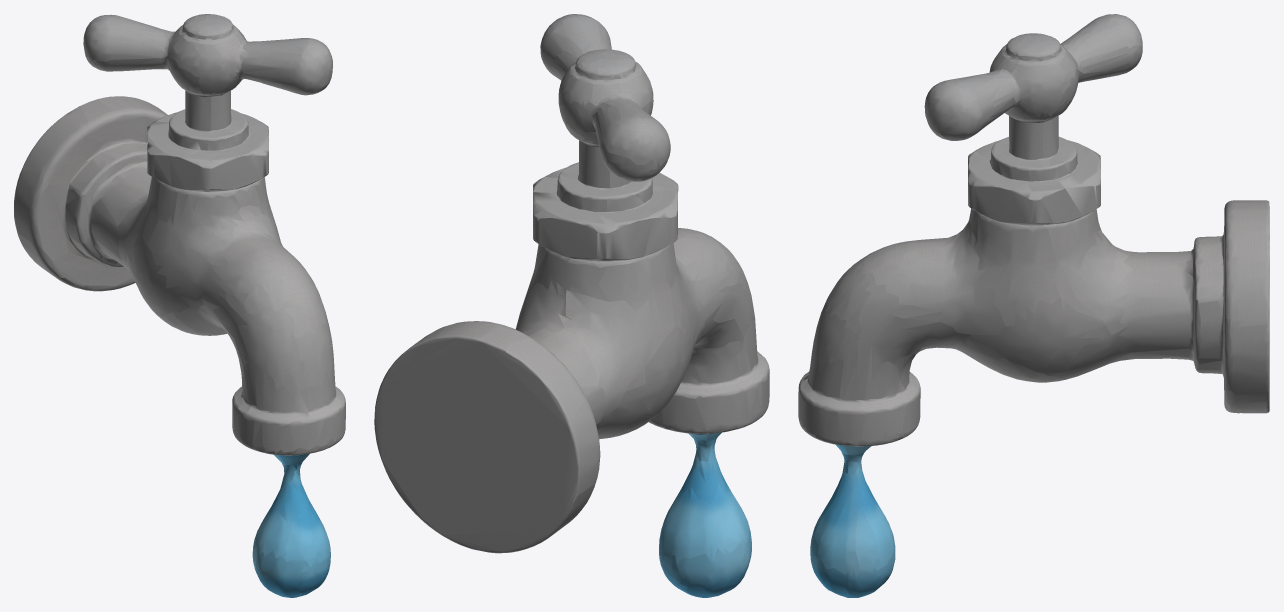
Rendered from agua.glb.
The picture shows the model from 3 angles, left to right: view 1: azimuth 30°, elevation 25°; view 2: azimuth 150°, elevation 25°; view 3: azimuth 270°, elevation 25°; orthographic projection. The views are drawn at different scales.
Parts seen in each view (by area): view 1: output_unwrapped; view 2: output_unwrapped; view 3: output_unwrapped.
Part boxes in pixels (bbox=[...]): output_unwrapped: bbox=[14, 14, 345, 597]; output_unwrapped: bbox=[374, 14, 769, 597]; output_unwrapped: bbox=[798, 14, 1269, 597].
Size of the model in its own units: 0.6732 by 1.9 by 1.47.
1 material, 1 textured.
